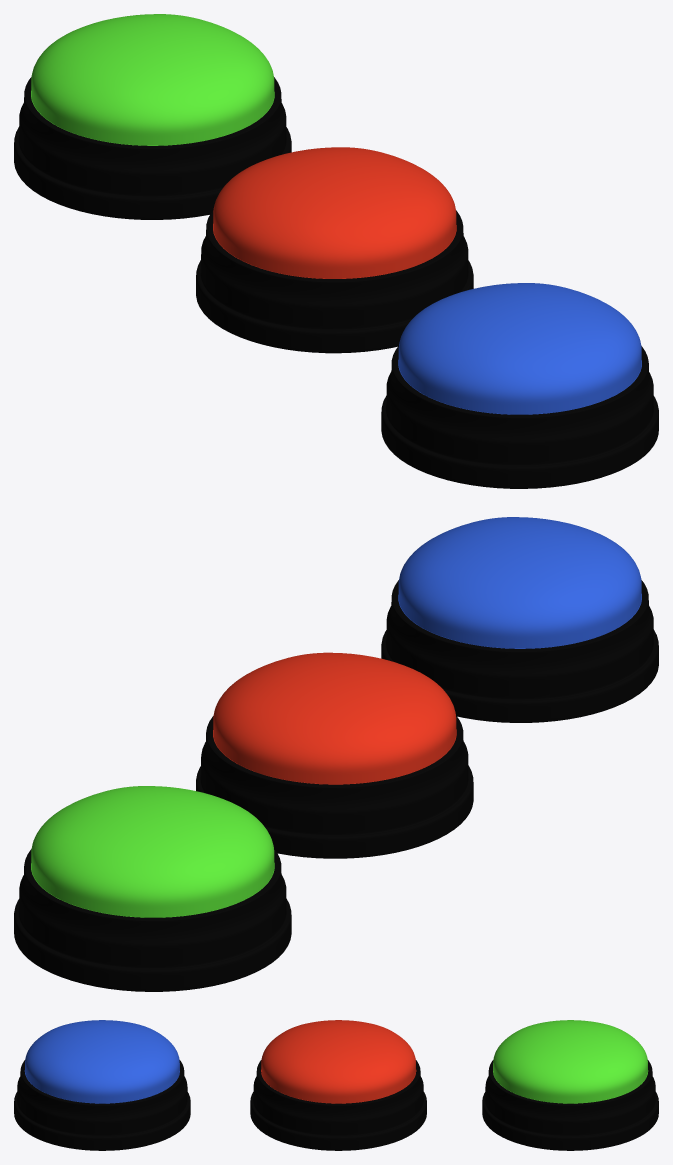
The model's file is buttons.fbx.
3 renders of one model, top to bottom at view 1: azimuth 30°, elevation 25°; view 2: azimuth 150°, elevation 25°; view 3: azimuth 270°, elevation 25°, orthographic. The views are drawn at different scales.
Visible parts, largest first — view 1: answer buzzers.001, answer buzzers.004, answer buzzers.003, answer buzzers.005, answer buzzers, answer buzzers.002; view 2: answer buzzers.003, answer buzzers.004, answer buzzers.001, answer buzzers.002, answer buzzers.005, answer buzzers; view 3: answer buzzers.001, answer buzzers.004, answer buzzers.003, answer buzzers, answer buzzers.002, answer buzzers.005.
Part boxes in pixels (bbox=[...]): answer buzzers.001: bbox=[31, 14, 274, 145]; answer buzzers.004: bbox=[398, 283, 641, 414]; answer buzzers.003: bbox=[213, 147, 456, 278]; answer buzzers.005: bbox=[381, 346, 658, 488]; answer buzzers: bbox=[196, 210, 473, 353]; answer buzzers.002: bbox=[14, 77, 291, 219]; answer buzzers.003: bbox=[213, 652, 456, 784]; answer buzzers.004: bbox=[398, 517, 641, 648]; answer buzzers.001: bbox=[31, 786, 274, 917]; answer buzzers.002: bbox=[14, 849, 291, 991]; answer buzzers.005: bbox=[381, 580, 658, 722]; answer buzzers: bbox=[196, 715, 473, 858]; answer buzzers.001: bbox=[493, 1020, 648, 1103]; answer buzzers.004: bbox=[24, 1020, 179, 1103]; answer buzzers.003: bbox=[261, 1020, 416, 1103]; answer buzzers: bbox=[250, 1060, 426, 1150]; answer buzzers.002: bbox=[482, 1060, 658, 1150]; answer buzzers.005: bbox=[14, 1060, 190, 1150].
Bounding box in the file's own units: 13.34 × 6.97 × 48.66.
